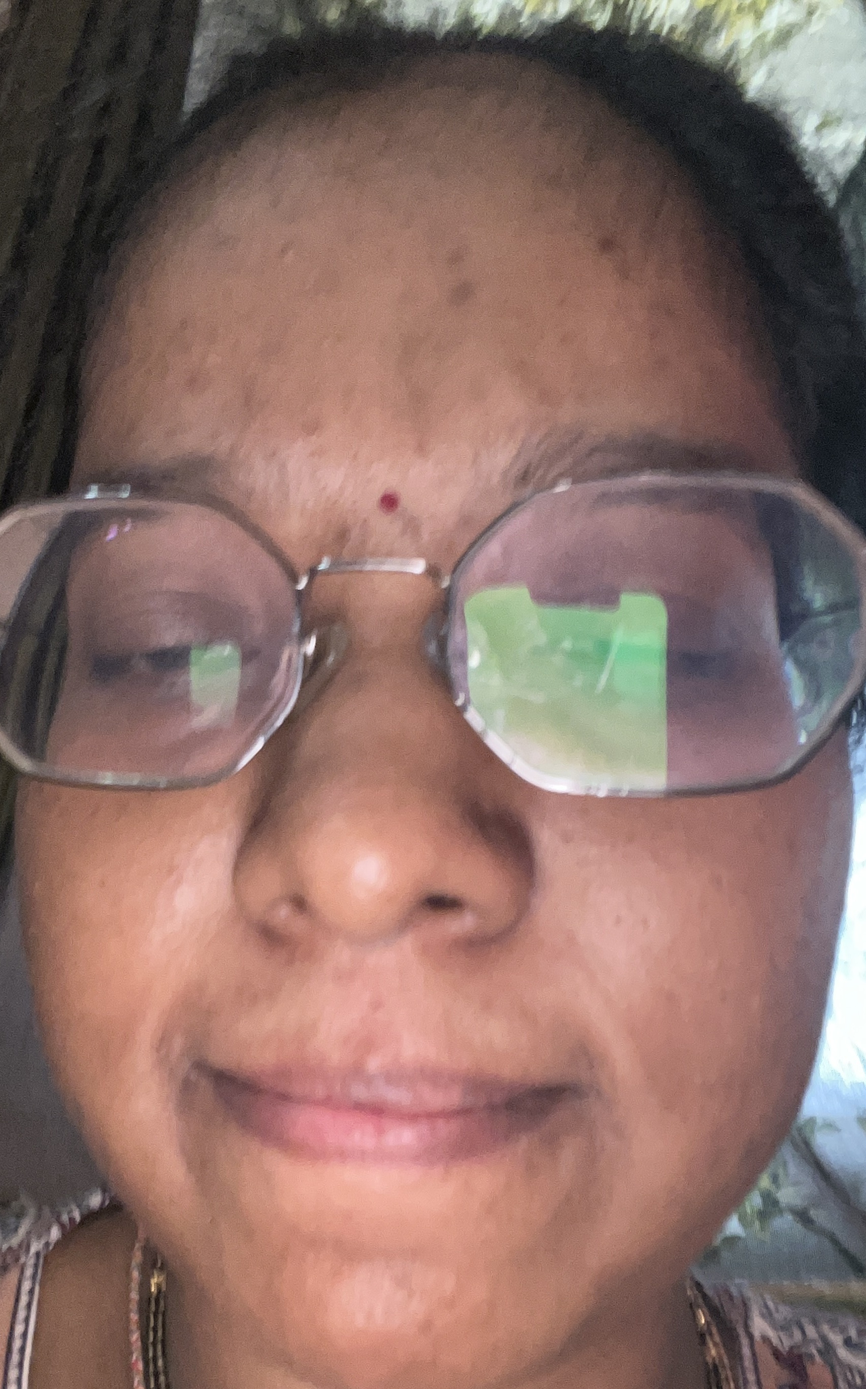papule: (581, 201, 645, 307), (164, 348, 244, 428), (432, 256, 508, 314), (150, 859, 210, 921)
